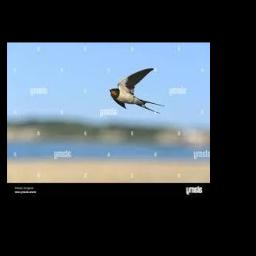Swallow: (110, 67, 164, 113)
